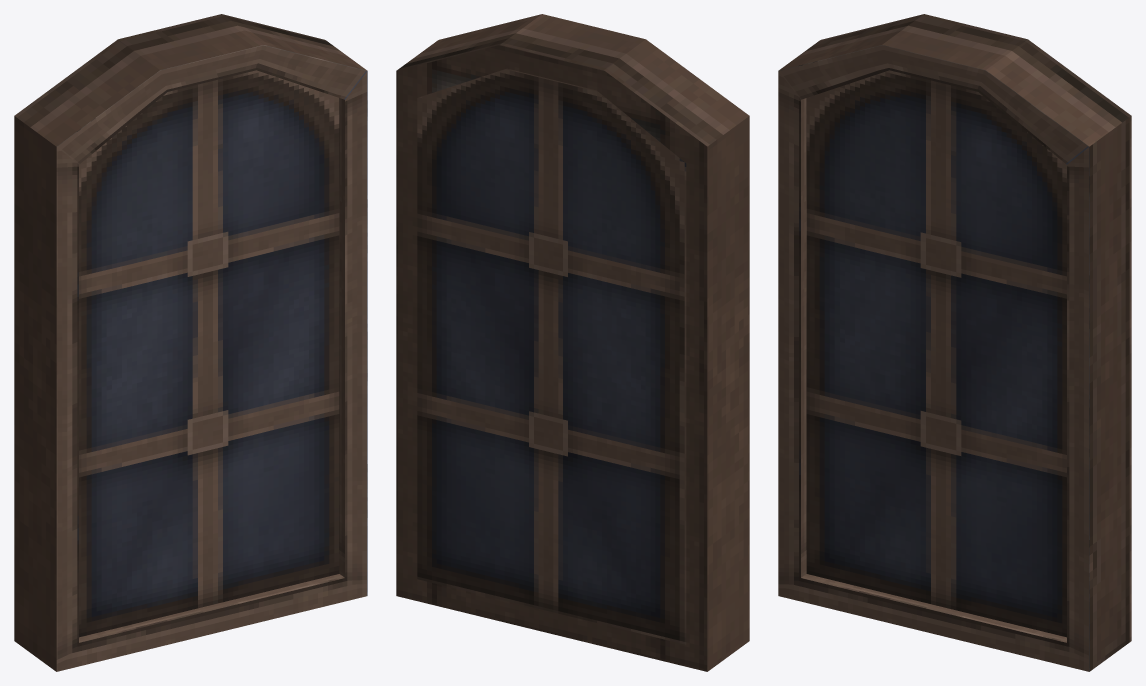
The model's file is window_rounded.glb.
3 renders of one model, left to right at view 1: azimuth 30°, elevation 25°; view 2: azimuth 150°, elevation 25°; view 3: azimuth 330°, elevation 25°, orthographic.
Visible parts, largest first — view 1: window_rounded; view 2: window_rounded; view 3: window_rounded.
Boxes of the visible parts, x1=… form: window_rounded: x1=14, y1=14, x2=367, y2=671; window_rounded: x1=396, y1=14, x2=749, y2=671; window_rounded: x1=778, y1=14, x2=1131, y2=671.
Size of the model in its own units: 0.9528 by 1.69 by 0.2238.
1 material, 1 textured.
